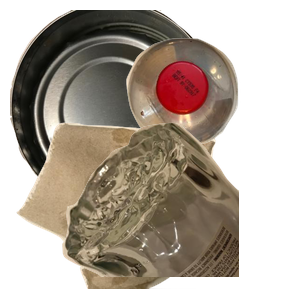glass: (60, 120, 300, 300)
metal: (10, 10, 221, 190)
plastic: (124, 36, 300, 175)
trash: (14, 120, 222, 300)
